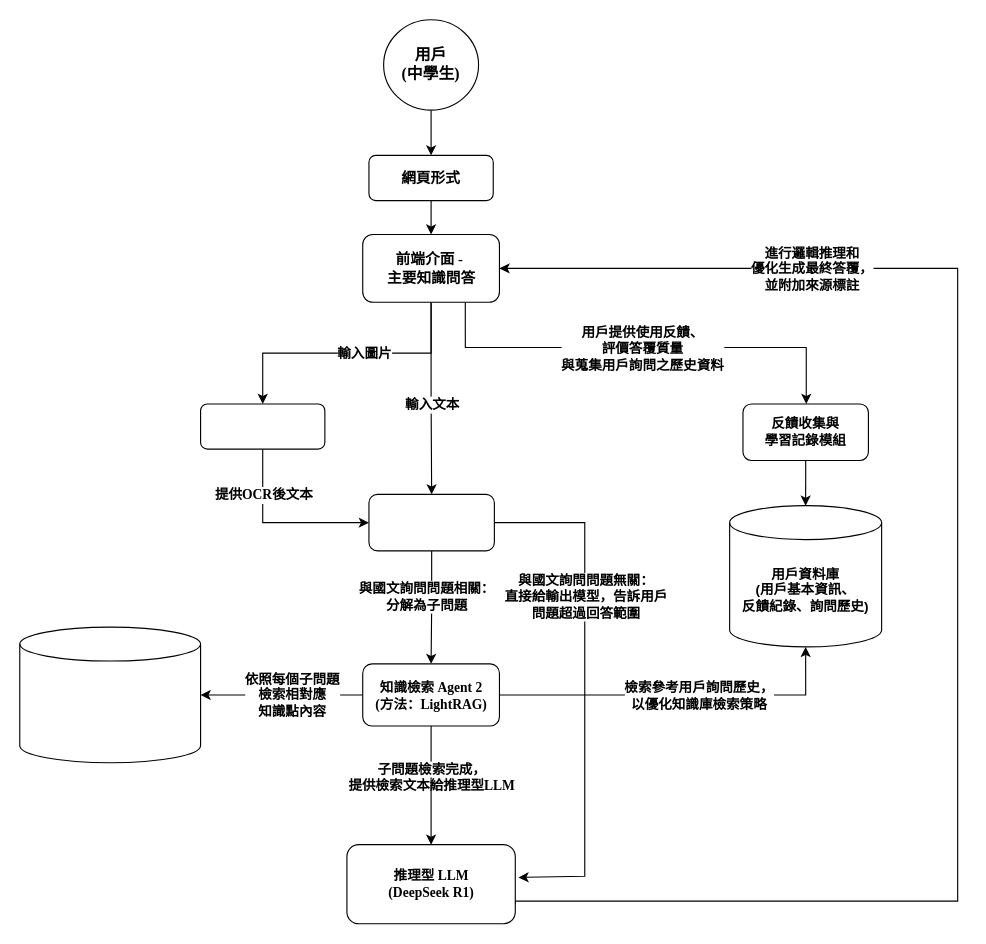
Image size: 986x944. Some labels were removed from this diagram. The shapes that lost their labels are listed below. From the top down, each one's box as (x1, y1, x2, y2) in pixels, then its label:
(199, 403, 325, 449): 拍照識別模組 (OCR 文字識別)
(368, 493, 494, 551): 問題分類與分解 Agent 1
(19, 626, 201, 763): 知識圖譜知識庫 (中學生國文教科書、參考書、大學中文系教科書)
